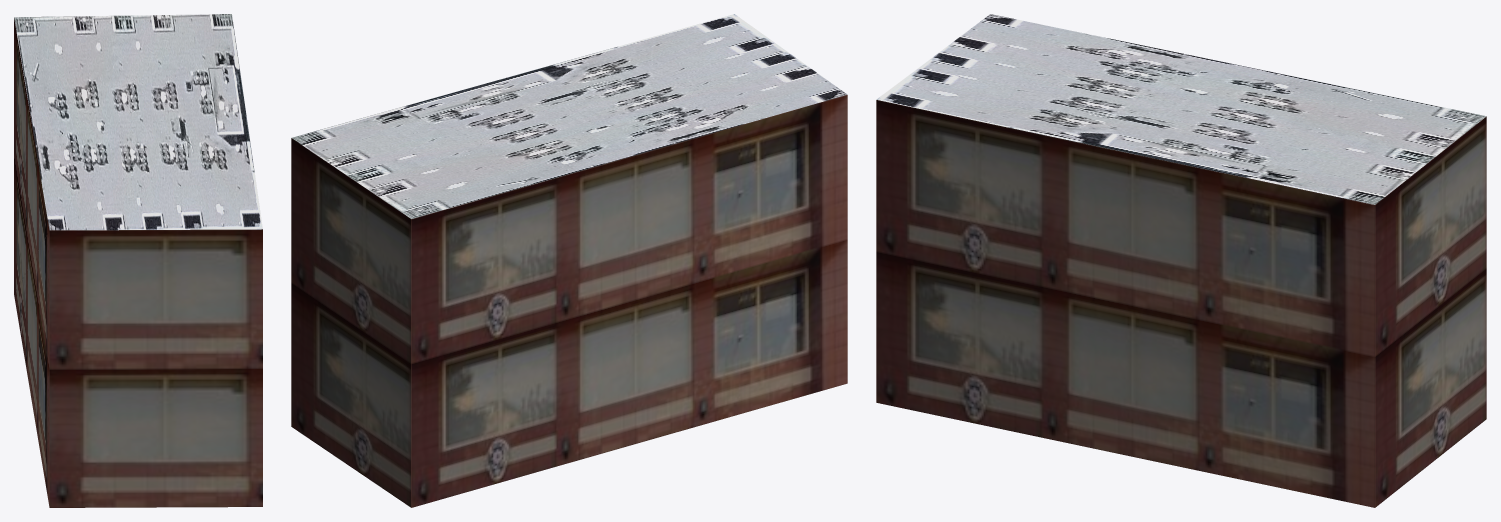
File: ResTex__1885.fbx
3 renders of one model, left to right at view 1: azimuth 30°, elevation 25°; view 2: azimuth 150°, elevation 25°; view 3: azimuth 270°, elevation 25°, orthographic. The views are drawn at different scales.
Visible parts, largest first — view 1: CityEngineMaterial_13_m, CityEngineMaterial_m; view 2: CityEngineMaterial_13_m, CityEngineMaterial_m; view 3: CityEngineMaterial_13_m, CityEngineMaterial_m.
Boxes of the visible parts, x1=… form: CityEngineMaterial_13_m: x1=14, y1=18, x2=262, y2=507; CityEngineMaterial_m: x1=14, y1=14, x2=262, y2=230; CityEngineMaterial_13_m: x1=291, y1=95, x2=847, y2=507; CityEngineMaterial_m: x1=291, y1=14, x2=847, y2=218; CityEngineMaterial_13_m: x1=876, y1=100, x2=1486, y2=507; CityEngineMaterial_m: x1=876, y1=14, x2=1486, y2=204.
Bounding box in the file's own units: 8.12 × 6 × 10.96.
Materials: 2 (2 with a texture image).
